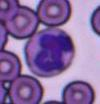N: (24, 28, 74, 76)
